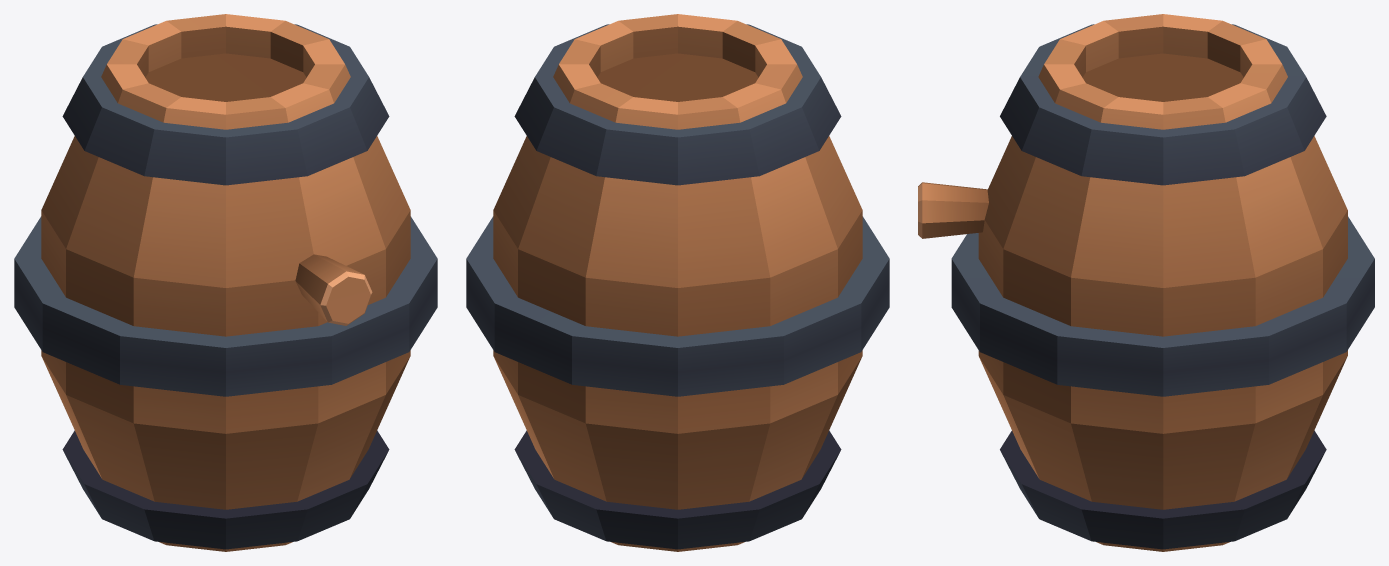
Rendered from mt_prop_barell02.fbx.
3 views of the same model, side by side, from view 1: azimuth 30°, elevation 25°; view 2: azimuth 150°, elevation 25°; view 3: azimuth 270°, elevation 25° (orthographic).
Parts seen in each view (by area): view 1: prop_barel01; view 2: prop_barel01; view 3: prop_barel01.
Part boxes in pixels (<box>): prop_barel01: <box>14,14,437,551</box>; prop_barel01: <box>466,14,889,551</box>; prop_barel01: <box>918,14,1374,551</box>.
Size of the model in its own units: 89.65 by 102 by 96.73.
